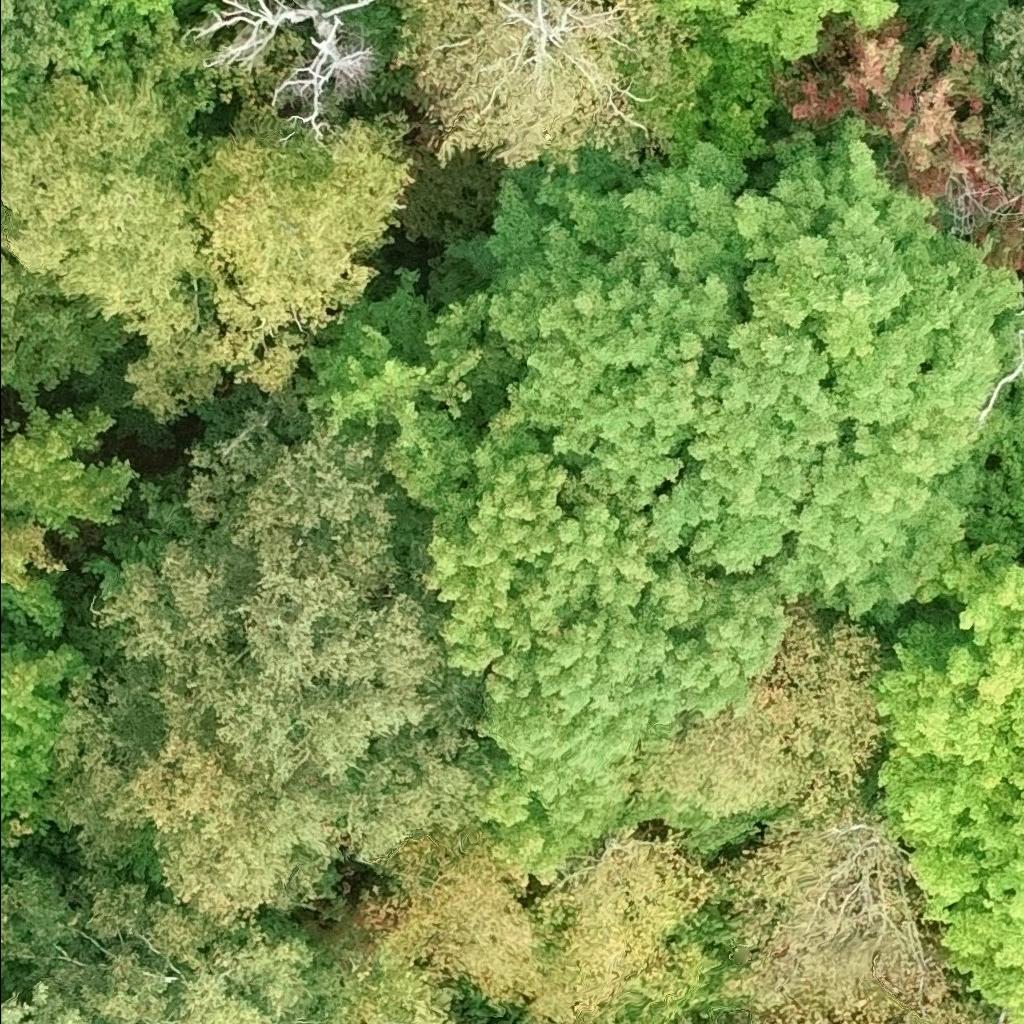crown: (416, 115, 1023, 620), (280, 306, 793, 887), (89, 398, 461, 789), (25, 653, 483, 925), (868, 547, 1023, 1023), (0, 44, 218, 345), (187, 104, 413, 394), (777, 13, 1023, 260), (383, 0, 715, 175), (623, 604, 881, 824), (713, 795, 954, 1023), (0, 871, 350, 1023), (520, 829, 734, 1023), (362, 823, 551, 1009), (0, 409, 134, 636), (196, 0, 376, 133), (124, 264, 242, 421), (0, 643, 89, 828), (656, 0, 903, 62), (339, 951, 461, 1023), (986, 5, 1023, 181), (0, 0, 59, 83), (976, 335, 1023, 420), (0, 982, 90, 1023), (905, 989, 989, 1023), (143, 1020, 161, 1023)
